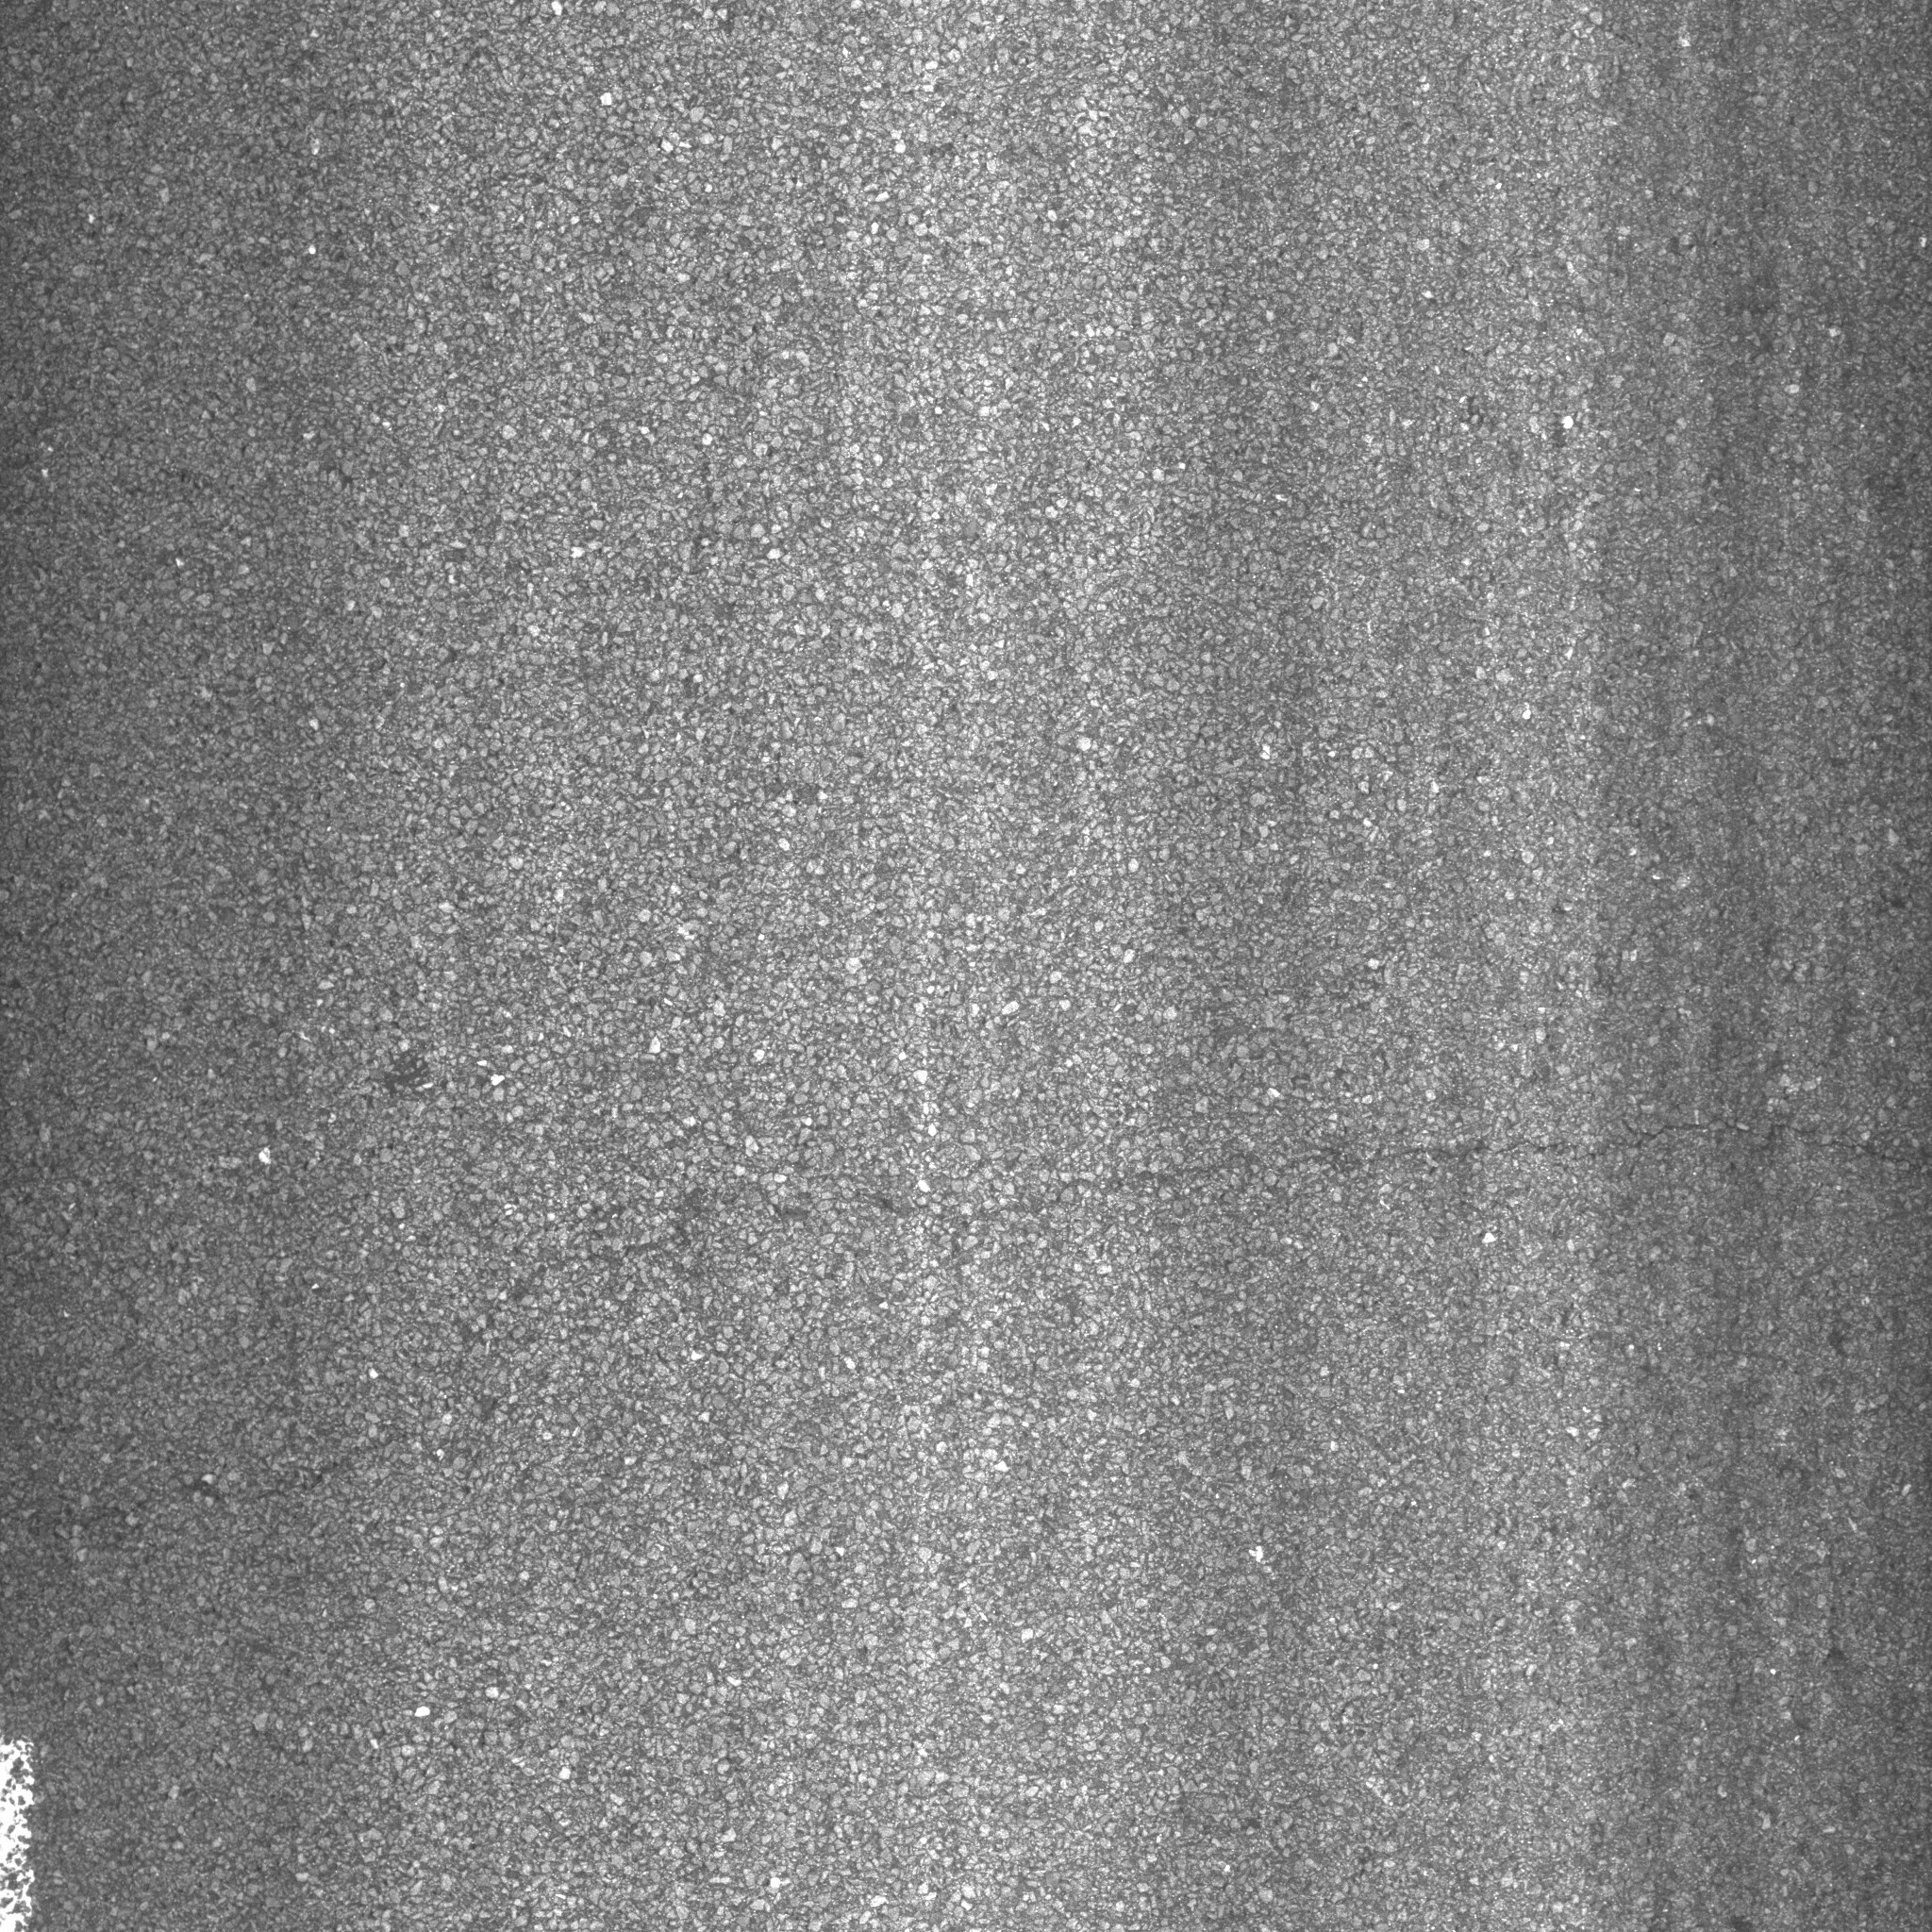transverse: (39, 1125, 1920, 1530)
